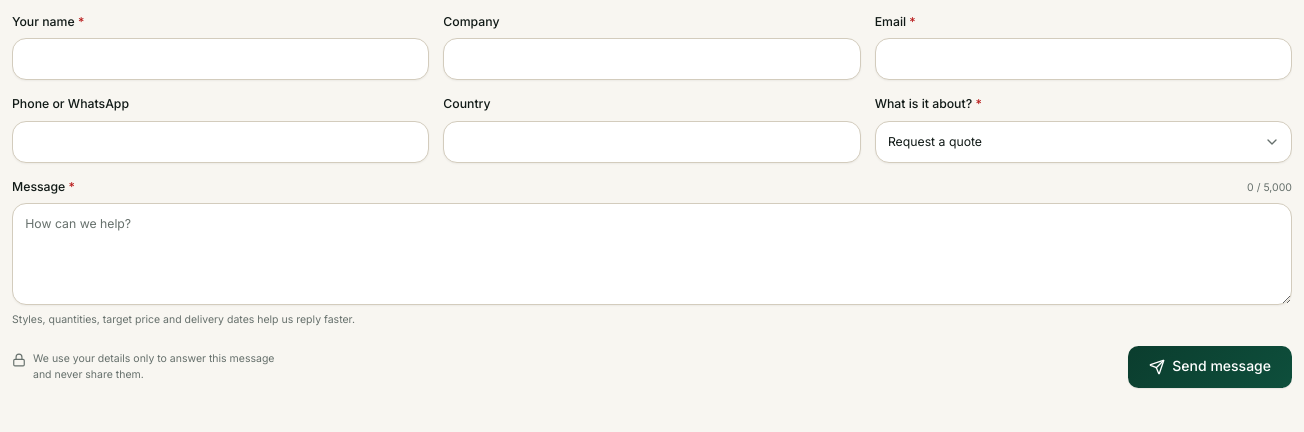
Test: ContactForm › puts server validation messages on the right fields
Type "Anna Berg" into the field labelled "Your name *".
click(221, 59); type("Anna Berg")  # box [12,38,429,80]
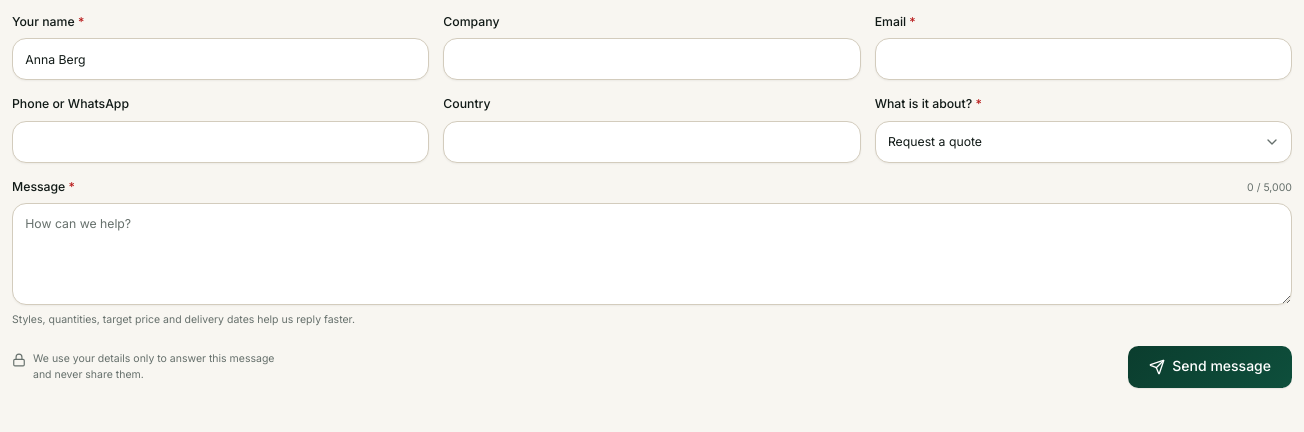
Type "anna@example.com" into the field labelled "Email *".
click(1083, 59); type("anna@example.com")  # box [875,38,1292,80]
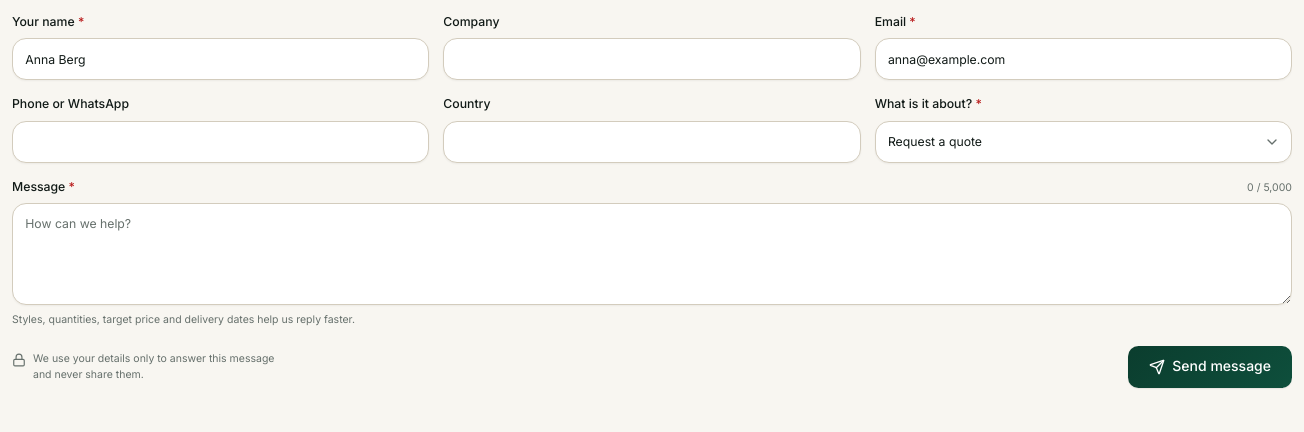
Type "We need 5,000 pcs of the jersey tee by March." into the text box labelled "Message *".
click(652, 254); type("We need 5,000 pcs of the jersey tee by March.")  # box [12,203,1292,305]
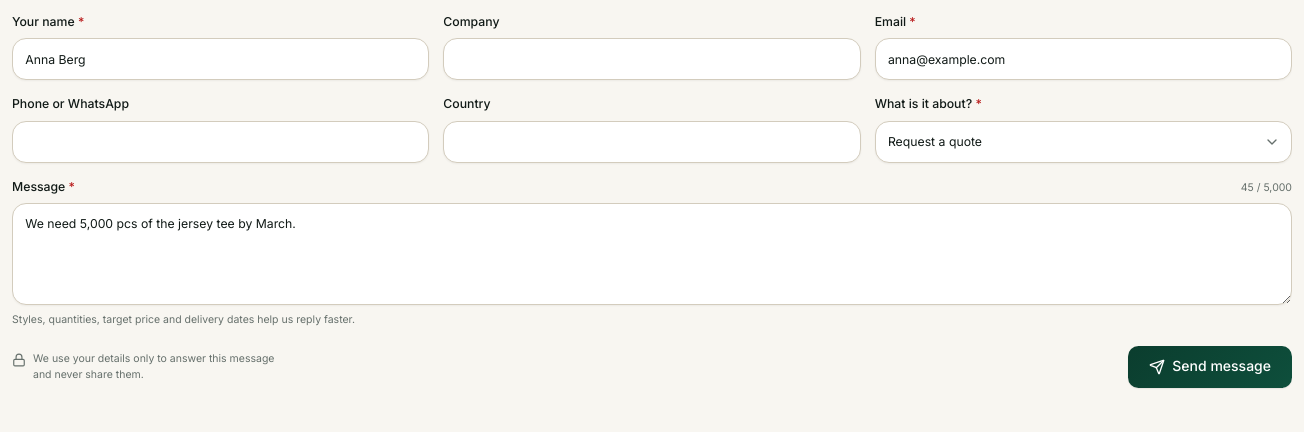
Click the button "Send message".
click(1210, 367)  # box [1128,346,1292,388]
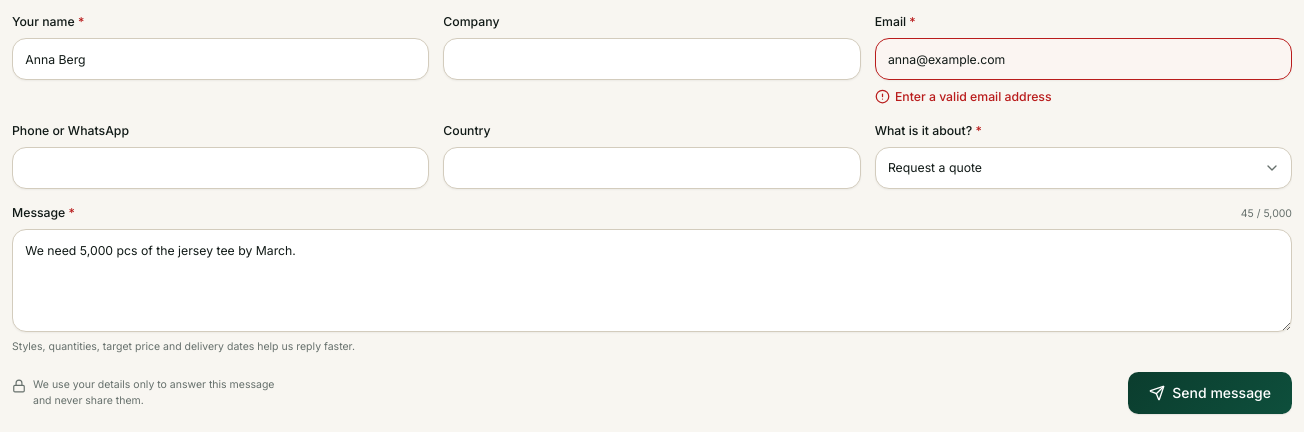
Expected: the text "Enter a valid email address" is shown, [895,87,1052,107]
